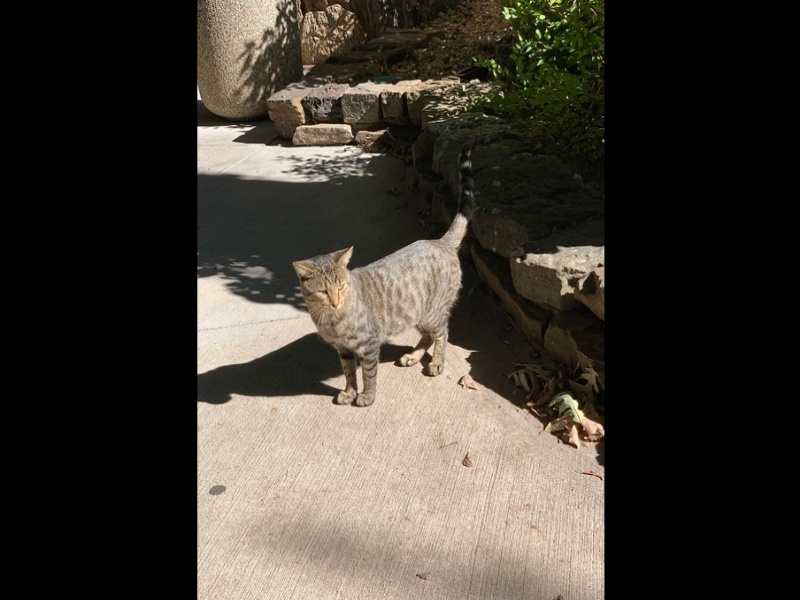cat: (291, 144, 489, 413)
